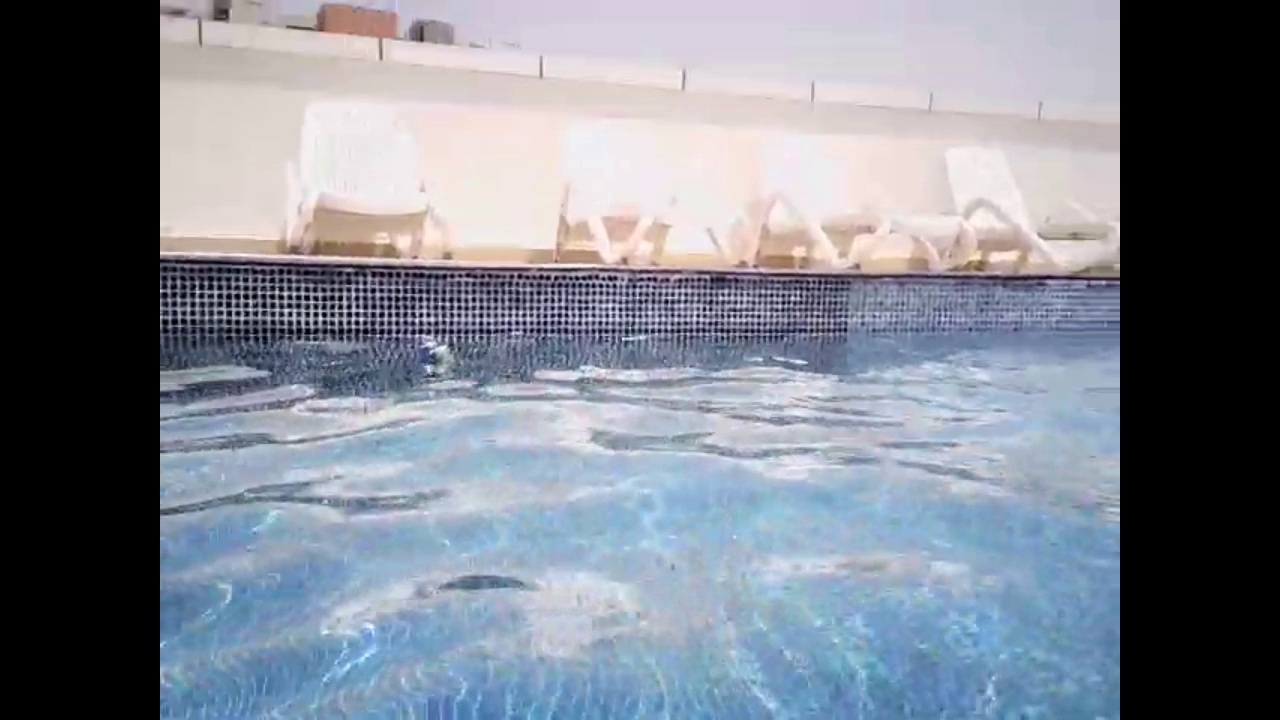debris: (424, 335, 452, 375), (414, 335, 434, 370)
